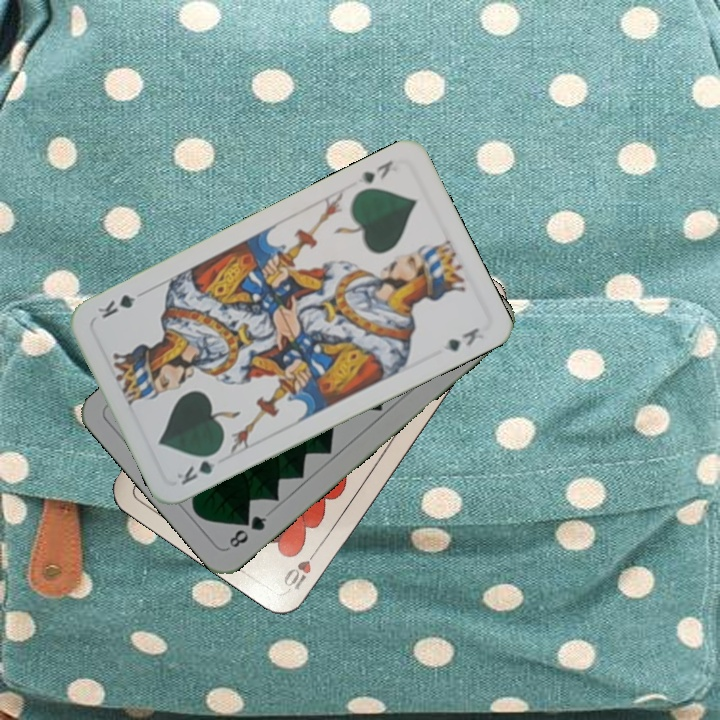G8: (224, 511, 270, 551)
GK: (172, 446, 223, 488), (356, 156, 396, 187)
H10: (279, 541, 323, 593)
